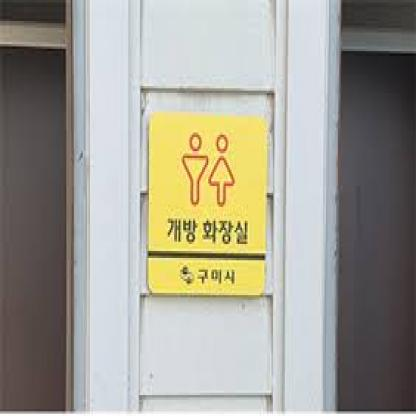toilet: (181, 125, 237, 206)
